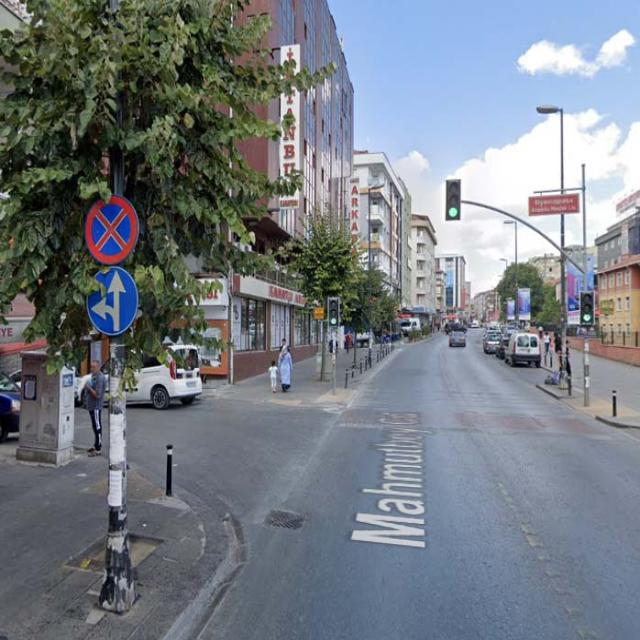ilerisol: (88, 267, 138, 335)
yesil: (445, 180, 461, 222), (580, 291, 594, 327), (328, 297, 338, 327)
